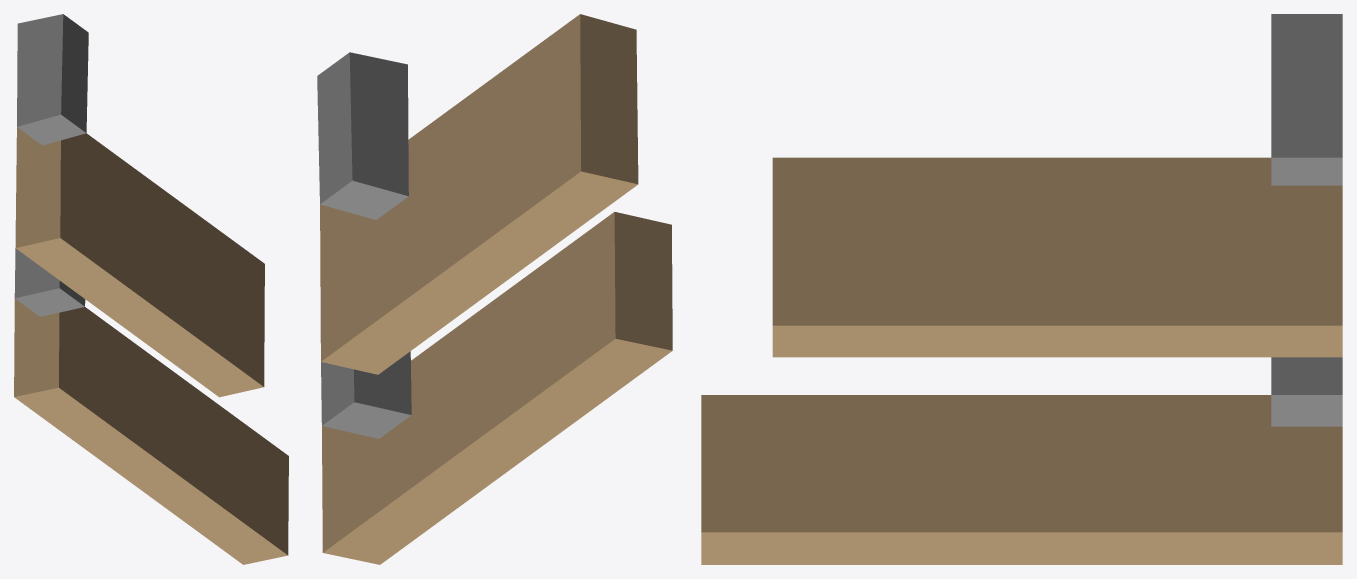
3 views of the same model, side by side, from view 1: azimuth 30°, elevation 25°; view 2: azimuth 150°, elevation 25°; view 3: azimuth 270°, elevation 25° (orthographic). The views are drawn at different scales.
Visible parts, largest first — view 1: 0_1_3_2_1_1_3_1; view 2: 0_1_3_2_1_1_3_1; view 3: 0_1_3_2_1_1_3_1.
Part boxes in pixels (x1,y1,x2,y2): 0_1_3_2_1_1_3_1: (14, 14, 288, 564); 0_1_3_2_1_1_3_1: (317, 14, 672, 564); 0_1_3_2_1_1_3_1: (701, 14, 1342, 564).
Bounding box in the file's own units: 3.35 × 24.3 × 27.
